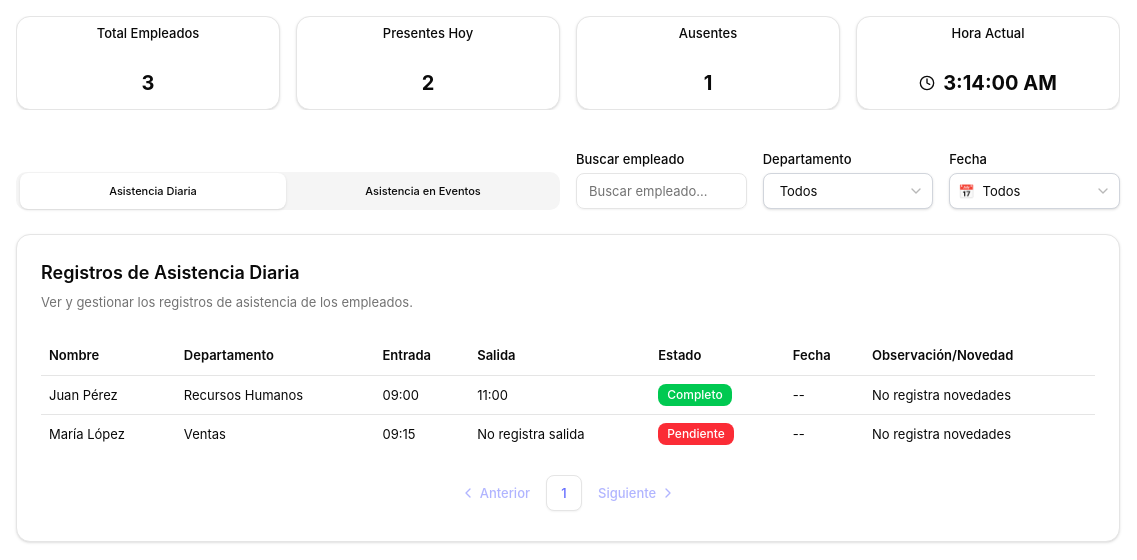
Scenario: Componente de Asistencia › Filtra empleados por nombre correctamente
The image size is (1137, 560).
// Buscar a María
In the field with placeholder "Buscar empleado...": [661, 191] box [576,173,747,209], type "María"
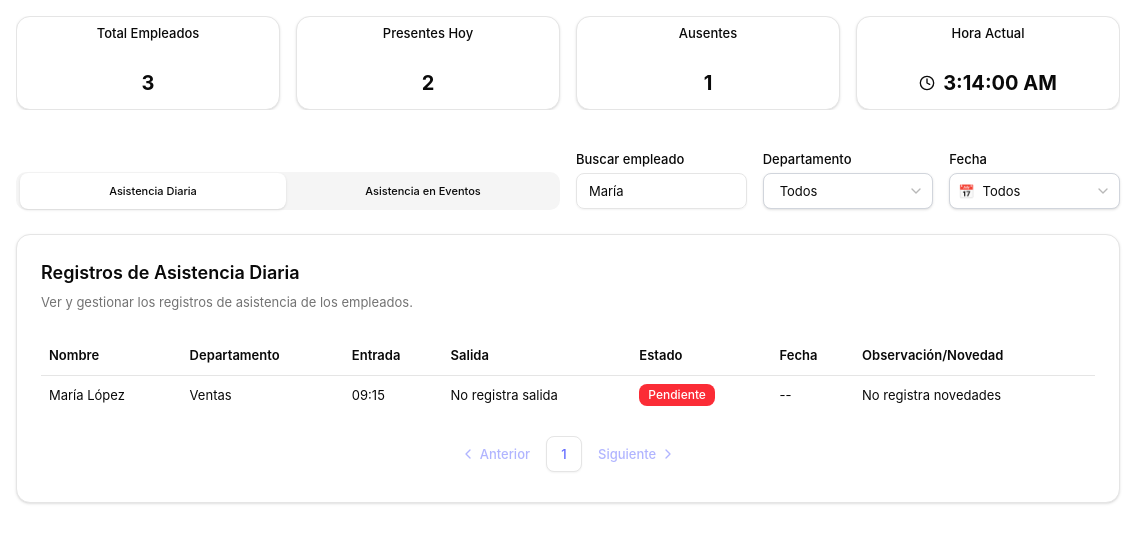
Expected: the text "María López" is shown, [41,376,182,414]
Now the text "Juan Pérez" is gone
